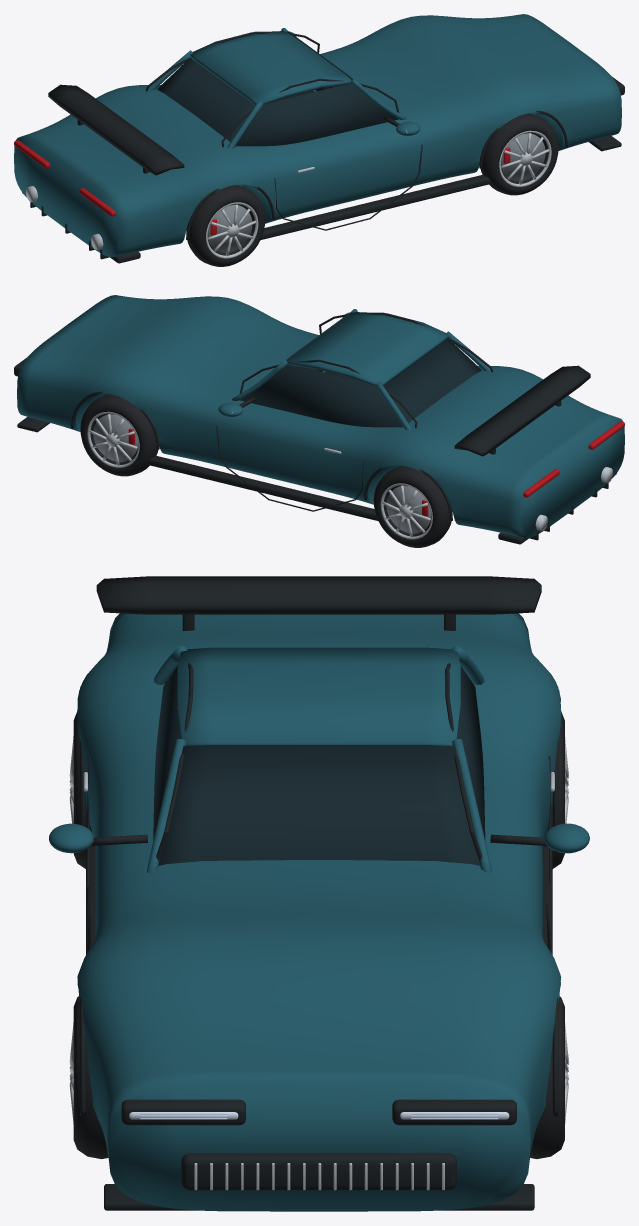
File: asset.glb
The picture shows the model from 3 angles, top to bottom: view 1: azimuth 30°, elevation 25°; view 2: azimuth 150°, elevation 25°; view 3: azimuth 270°, elevation 25°; orthographic projection. The views are drawn at different scales.
Visible parts, largest first — view 1: chassis, roof, side_glass_left, rear_spoiler, rear_glass, tyre_rear_left, tyre_front_left, sill_left, brake_rear_left, brake_front_left, rim_rear_left, rim_front_left (+5 smaller); view 2: chassis, roof, side_glass_right, rear_spoiler, rear_glass, tyre_rear_right, tyre_front_right, sill_right, brake_rear_right, brake_front_right, rim_rear_right, rim_front_right (+5 smaller); view 3: chassis, windshield, roof, rear_spoiler, front_grille, headlamp_surround_left, headlamp_surround_right, tyre_front_right, tyre_front_left, side_glass_right, side_glass_left, front_splitter (+8 smaller).
Part boxes in pixels (box(x1,y1,x2,y2)): chassis: box(14, 14, 621, 257); roof: box(190, 31, 351, 104); side_glass_left: box(235, 83, 398, 146); rear_spoiler: box(48, 84, 184, 175); rear_glass: box(158, 58, 255, 142); tyre_rear_left: box(186, 185, 265, 266); tyre_front_left: box(480, 113, 558, 195); sill_left: box(261, 174, 490, 239); brake_rear_left: box(207, 205, 252, 252); brake_front_left: box(501, 133, 545, 181); rim_rear_left: box(206, 202, 258, 258); rim_front_left: box(499, 130, 551, 186); chassis: box(17, 295, 624, 538); roof: box(287, 312, 448, 385); side_glass_right: box(240, 364, 403, 427); rear_spoiler: box(454, 365, 590, 456); rear_glass: box(383, 339, 480, 423); tyre_rear_right: box(373, 466, 452, 547); tyre_front_right: box(80, 394, 158, 476); sill_right: box(148, 455, 377, 520); brake_rear_right: box(386, 486, 431, 533); brake_front_right: box(93, 414, 137, 462); rim_rear_right: box(380, 483, 432, 539); rim_front_right: box(87, 411, 139, 467); chassis: box(77, 613, 561, 1211); windshield: box(158, 745, 479, 865); roof: box(177, 647, 460, 745); rear_spoiler: box(96, 576, 541, 614); front_grille: box(181, 1153, 456, 1190); headlamp_surround_left: box(121, 1099, 245, 1125); headlamp_surround_right: box(392, 1099, 516, 1125); tyre_front_right: box(530, 996, 564, 1158); tyre_front_left: box(73, 996, 108, 1159); side_glass_right: box(457, 665, 485, 840); side_glass_left: box(153, 665, 181, 839); front_splitter: box(104, 1184, 534, 1210).
Size of the model in its own units: 4.92 by 1.29 by 2.24.
